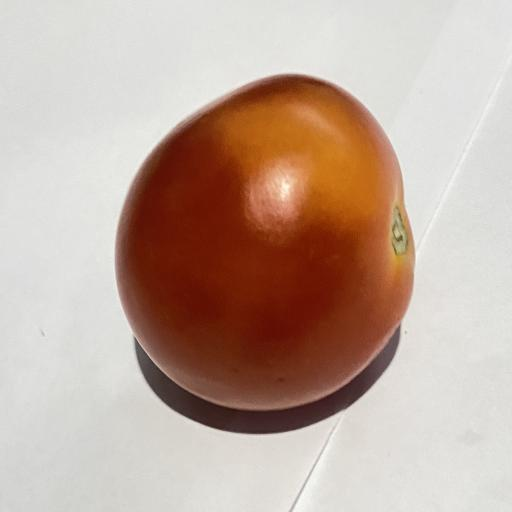ripe: (115, 75, 415, 410)
